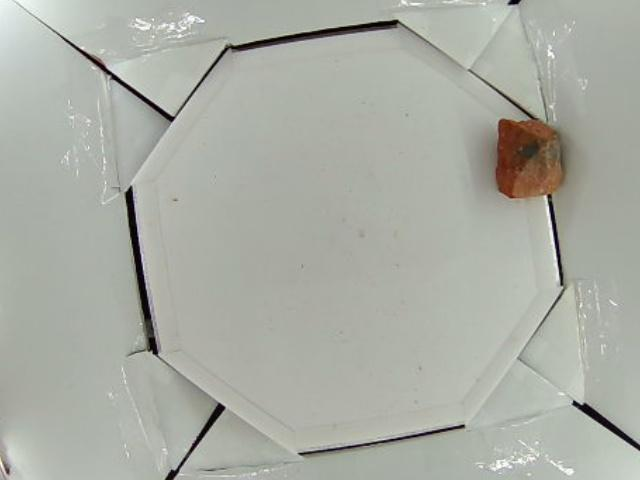Brisk: (493, 117, 567, 198)
